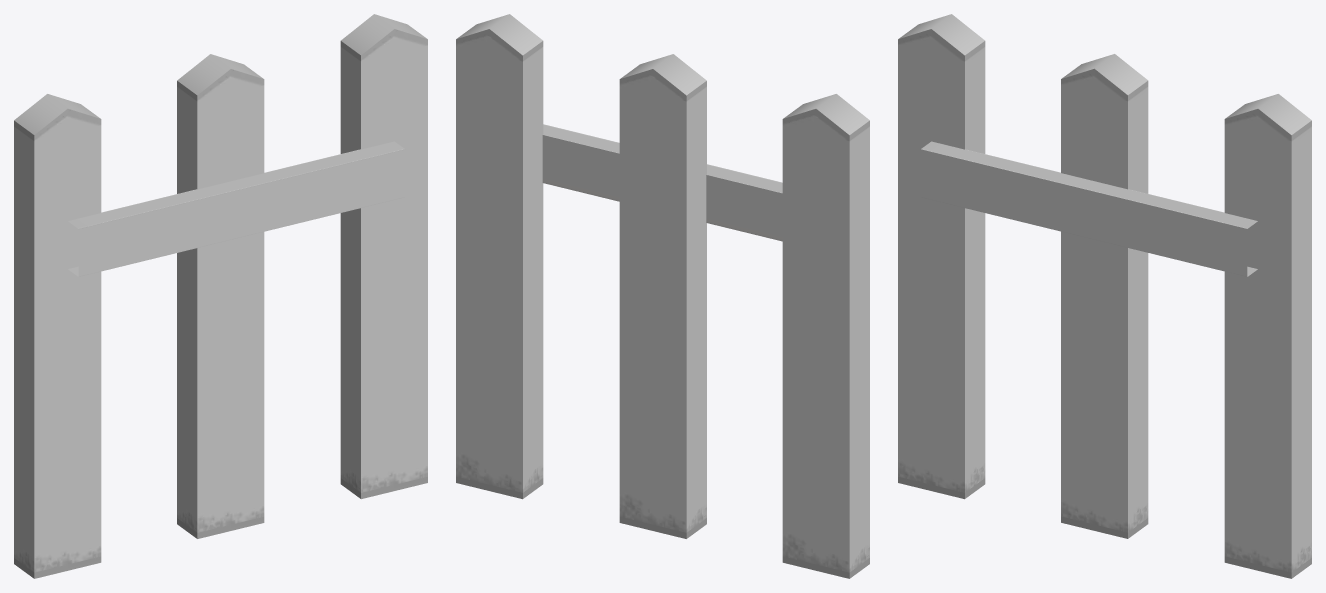
File: city_white_picket_fence_01.glb
The picture shows the model from 3 angles, left to right: view 1: azimuth 30°, elevation 25°; view 2: azimuth 150°, elevation 25°; view 3: azimuth 330°, elevation 25°; orthographic projection.
Visible parts, largest first — view 1: polySurface199; view 2: polySurface199; view 3: polySurface199.
Part boxes in pixels (bbox=[...]): polySurface199: bbox=[14, 14, 427, 578]; polySurface199: bbox=[456, 14, 869, 578]; polySurface199: bbox=[898, 14, 1311, 578].
Size of the model in its own units: 0.8432 by 0.9462 by 0.1155.
Materials: 1 (1 with a texture image).
